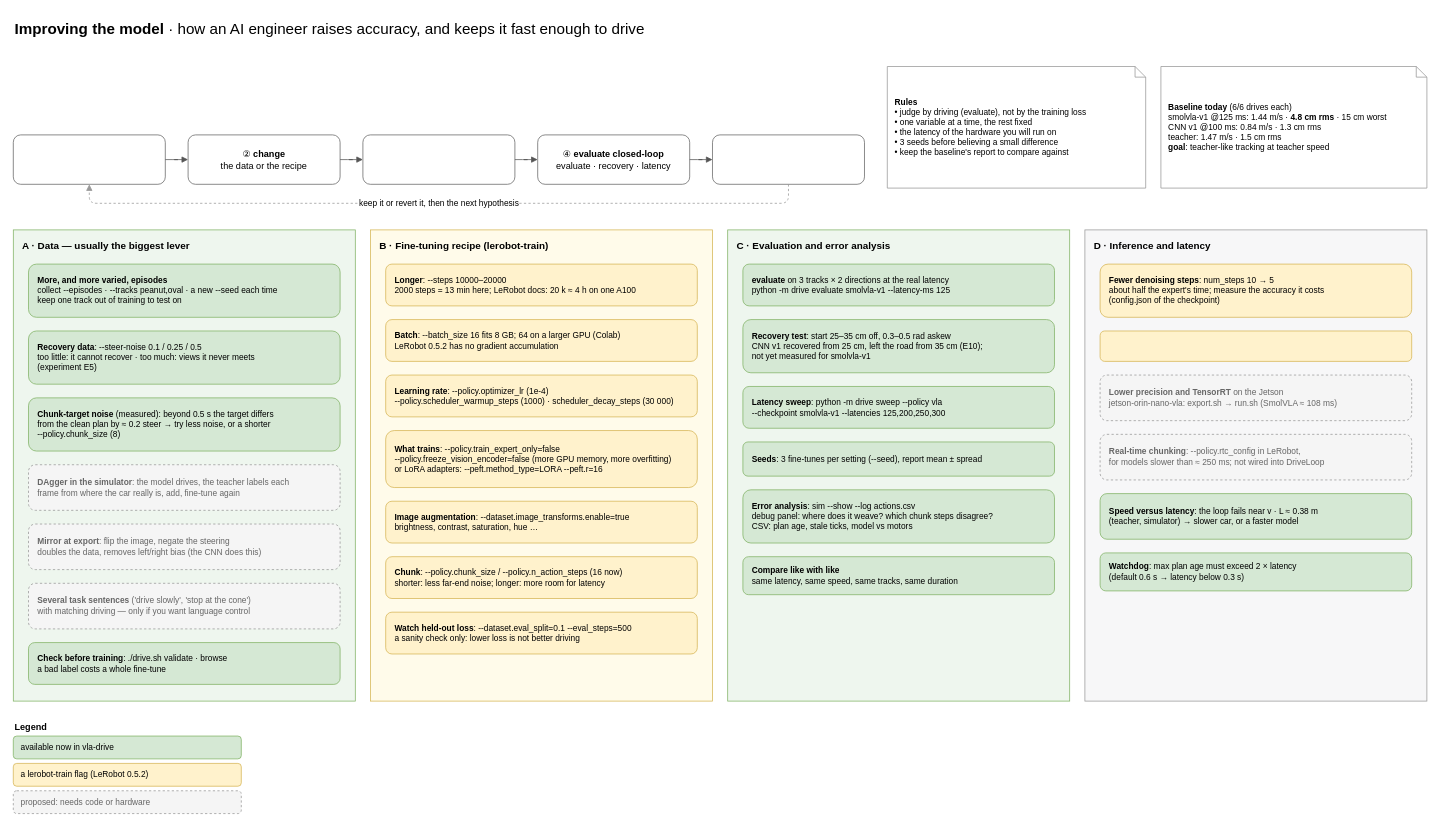
Image size: 1440x827. Some labels were removed from this diagram. Here are the shapes that lost their labels. From the top down, the centre of each, then its label:
At (x=89, y=159): "① hypothesis one change, a predicted effect".
At (x=438, y=159): "③ fine-tune same steps · 3 seeds".
At (x=788, y=159): "⑤ error analysis debug panel · --log · browse".
At (x=1255, y=345): "torch.compile : --policy.compile_model=true".
